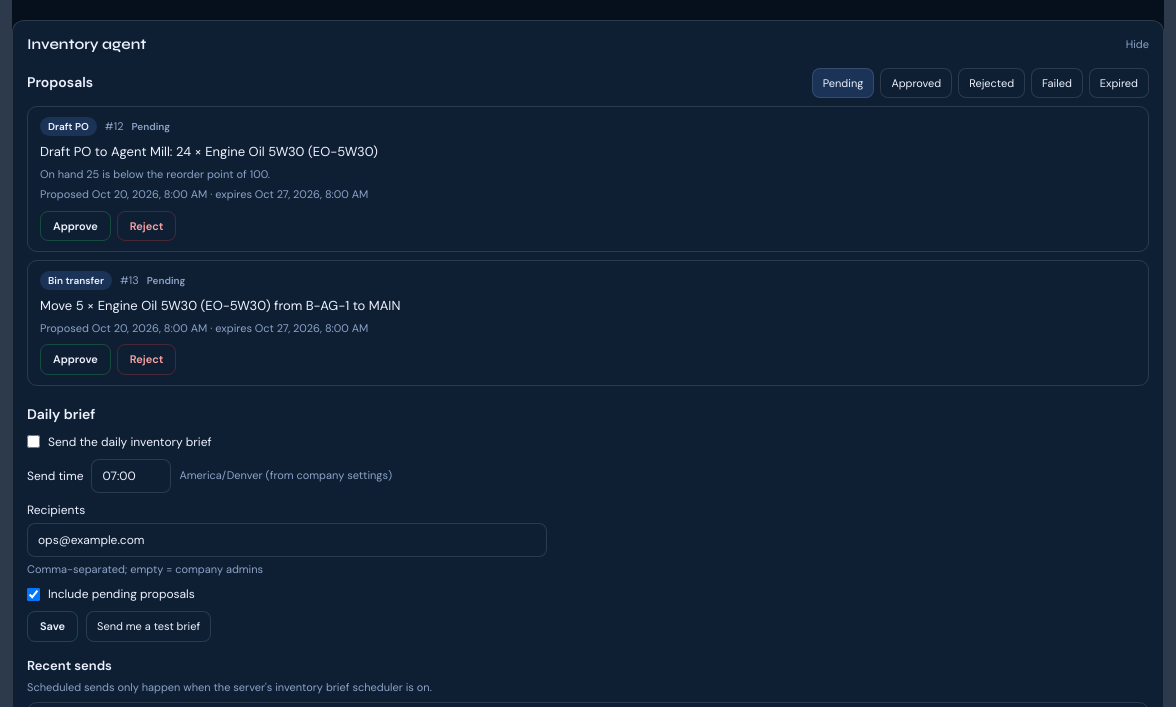
InventoryAgentPanel › test brief shows the returned status
What coordinates should you click on to do the following:
click the button "Send me a test brief"
I would click on:
 (149, 626)
Its box is [86,611,211,642].
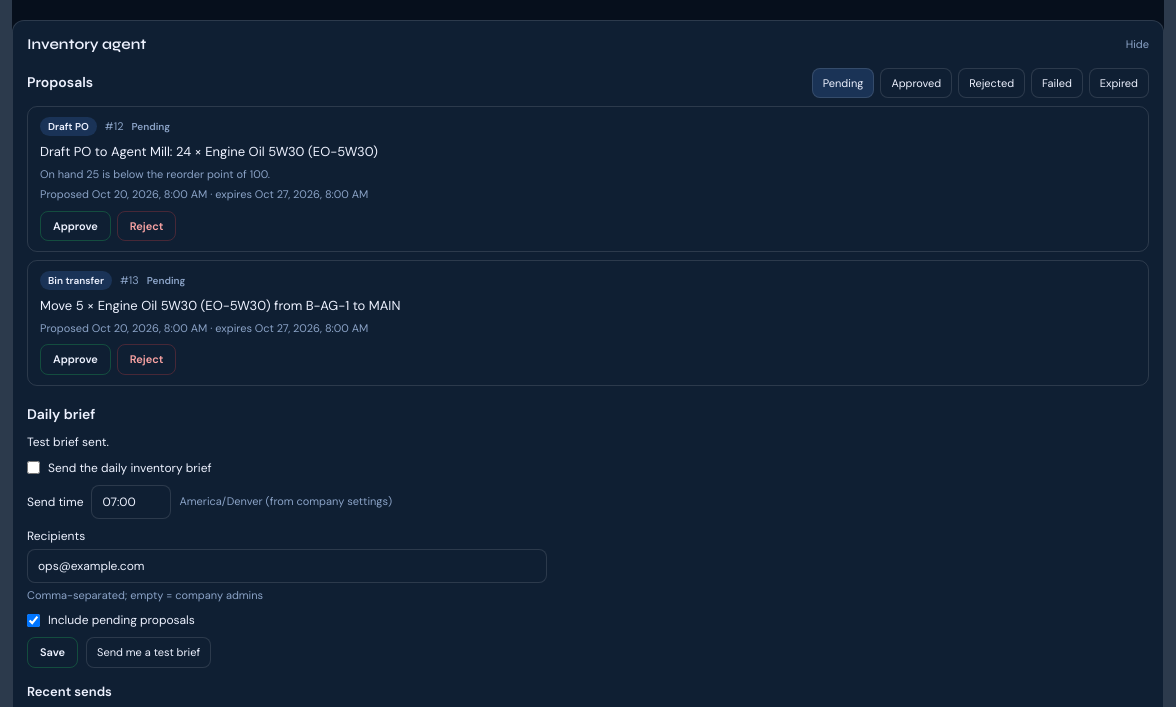
Expected: the text "Test brief sent." is shown, [27,434,109,450]
